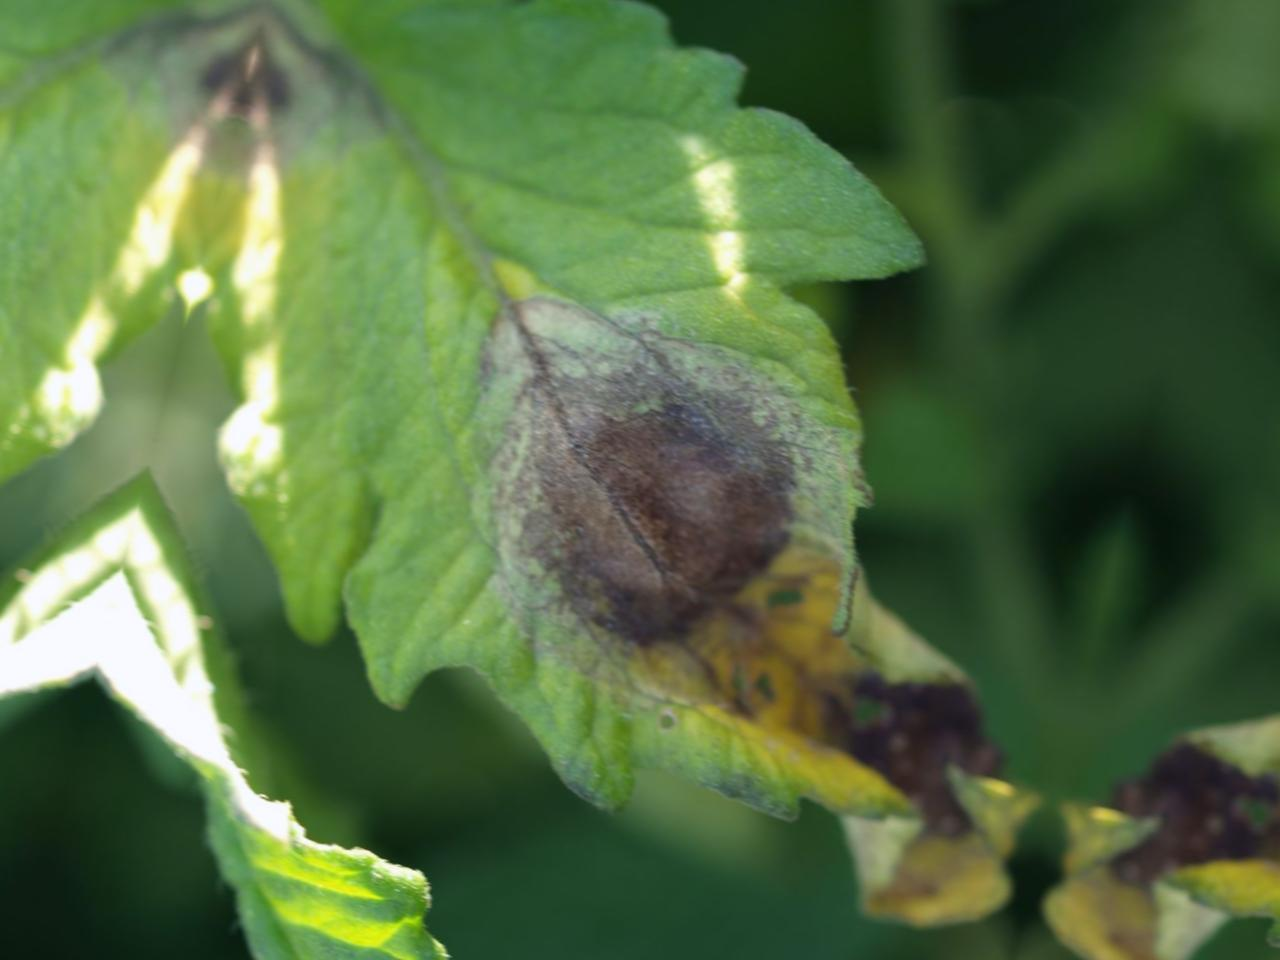Tomato leaf late blight: (119, 0, 1252, 953)
